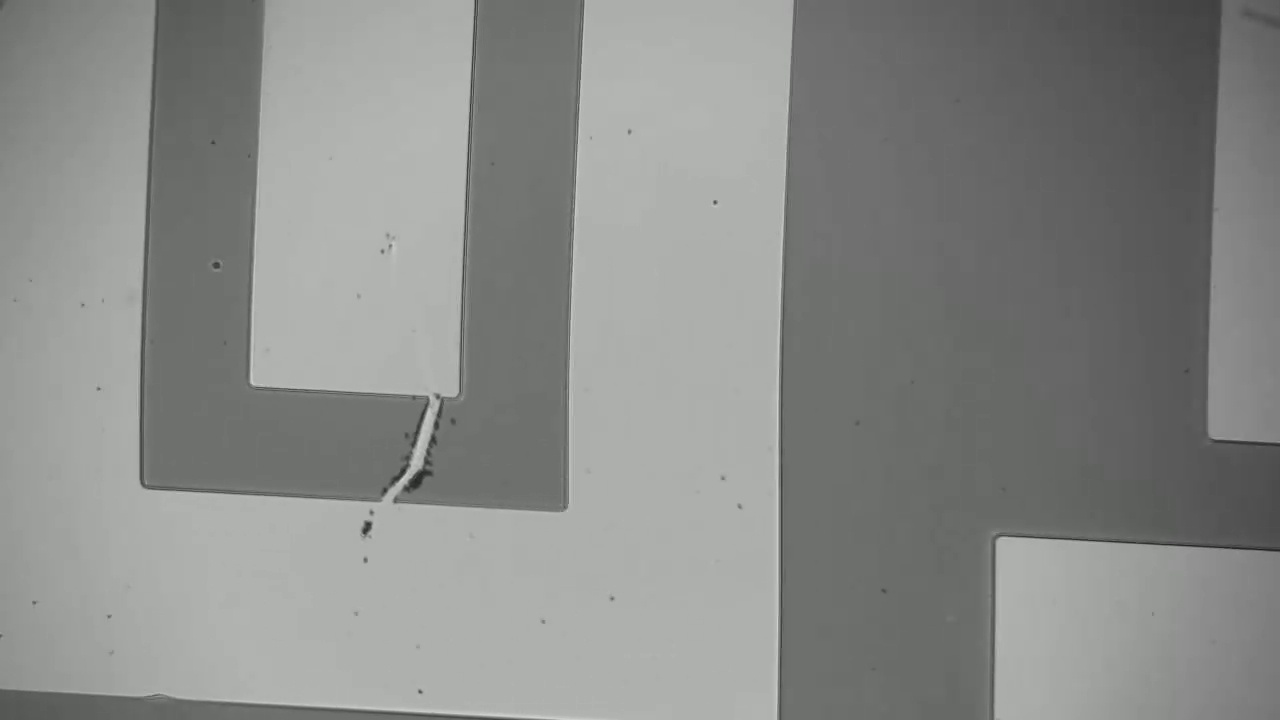Short_circuit: (348, 384, 454, 528)
